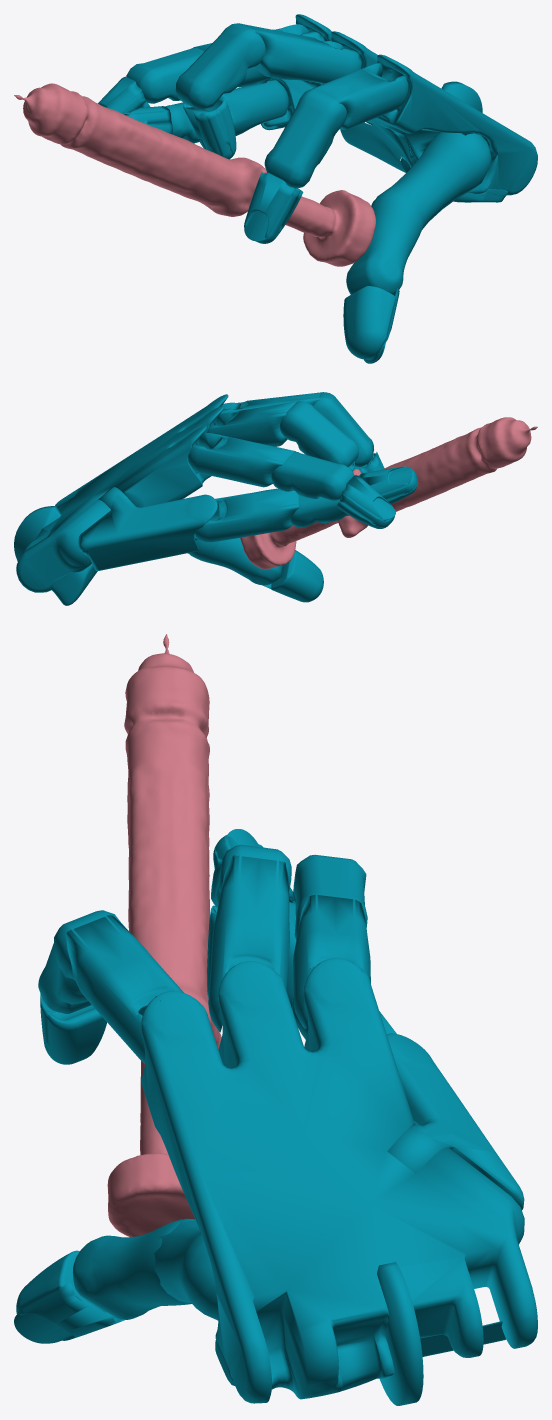
The picture shows the model from 3 angles, top to bottom: view 1: azimuth 30°, elevation 25°; view 2: azimuth 150°, elevation 25°; view 3: azimuth 270°, elevation 25°; orthographic projection. The views are drawn at different scales.
Visible parts, largest first — view 1: world; view 2: world; view 3: world.
Part boxes in pixels (x1,y1,x2,y2): world: (14, 14, 537, 363); world: (14, 392, 537, 605); world: (14, 634, 537, 1405).
Bounding box in the file's own units: 0.2501 × 0.1362 × 0.1353.
